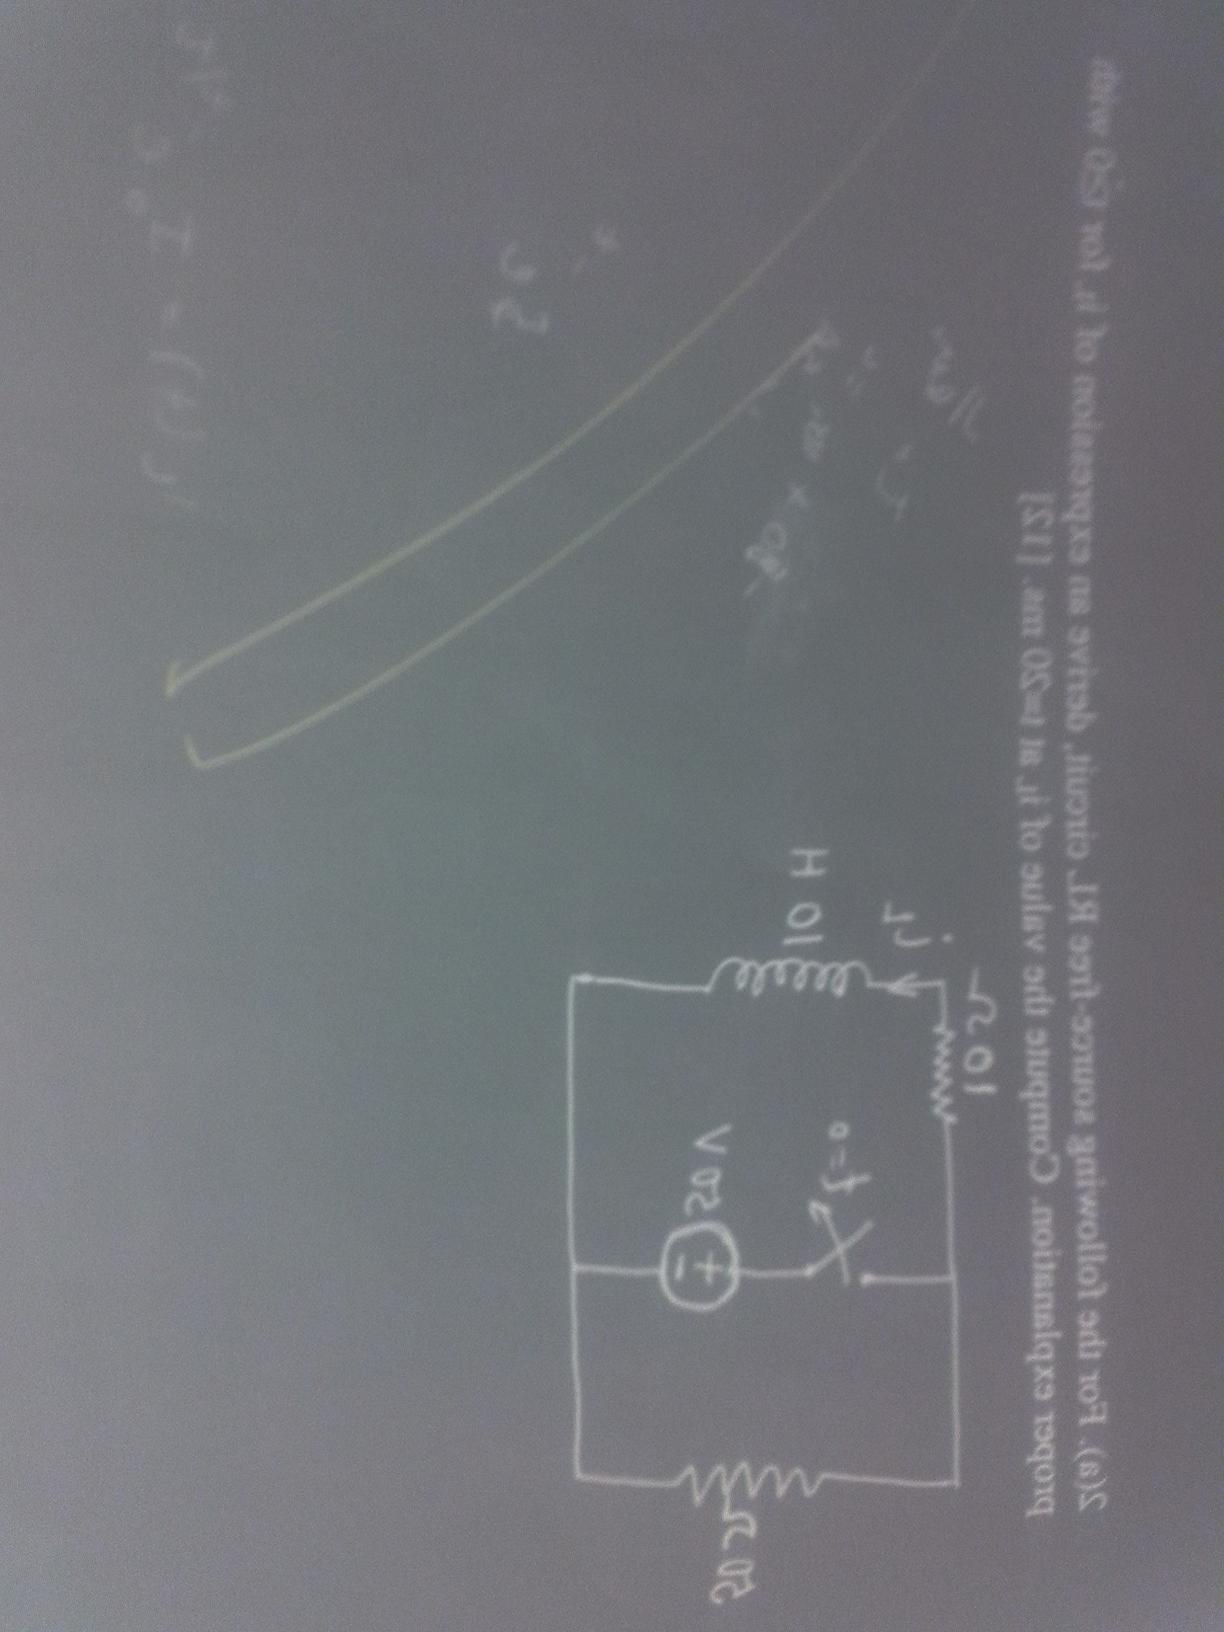Battery: (629, 1196, 757, 1352)
